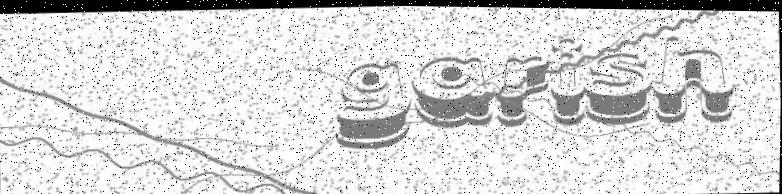a: (410, 45, 500, 125)
g: (334, 58, 414, 158)
h: (651, 29, 738, 141)
i: (553, 37, 590, 129)
r: (495, 50, 553, 127)
s: (582, 47, 656, 130)
